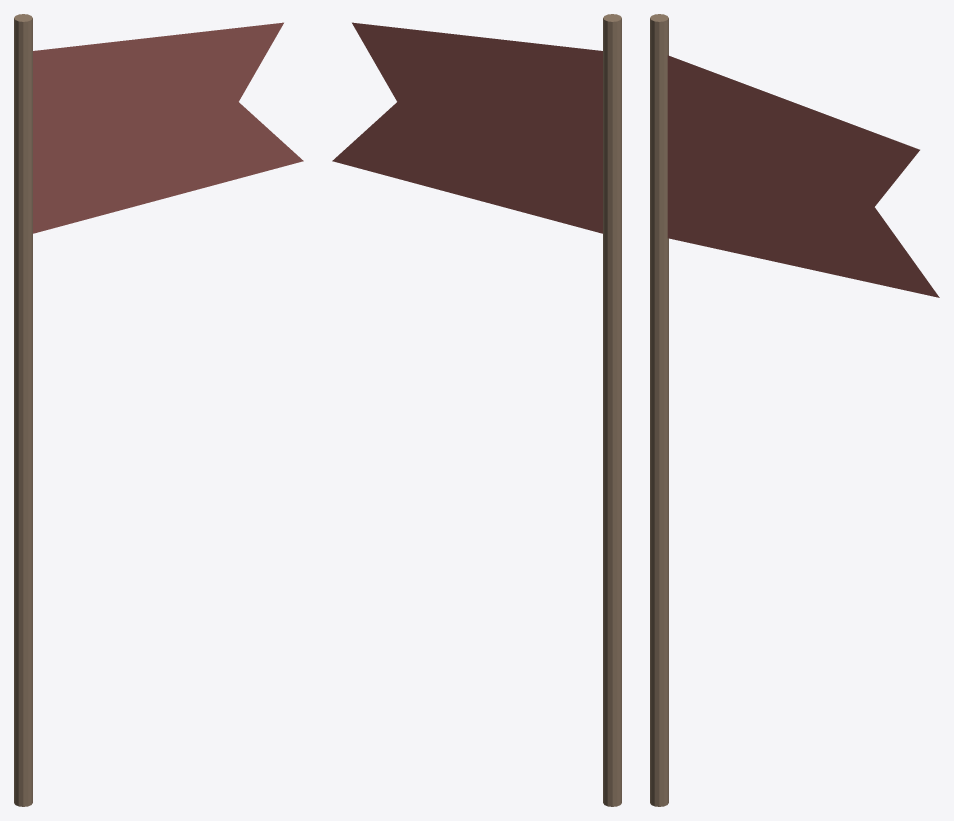
File: ENV-FLAG.glb
3 views of the same model, side by side, from view 1: azimuth 30°, elevation 25°; view 2: azimuth 150°, elevation 25°; view 3: azimuth 330°, elevation 25° (orthographic).
Parts seen in each view (by area): view 1: torn_flag, pole; view 2: torn_flag, pole; view 3: torn_flag, pole.
Part boxes in pixels (left/top/right/bottom): torn_flag: left=33, top=22, right=303, bottom=233; pole: left=14, top=14, right=32, bottom=806; torn_flag: left=332, top=22, right=602, bottom=233; pole: left=603, top=14, right=621, bottom=806; torn_flag: left=667, top=55, right=939, bottom=297; pole: left=650, top=14, right=668, bottom=806.
Size of the model in its own units: 0.885 by 2.3 by 0.05.
